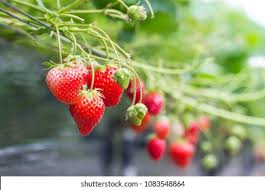ripe: (42, 54, 94, 106), (66, 82, 107, 138), (91, 62, 123, 108), (166, 135, 193, 167), (126, 75, 143, 104), (146, 135, 164, 162), (153, 116, 174, 137), (143, 89, 161, 113)
unripe: (127, 105, 146, 133), (113, 66, 128, 91), (200, 153, 218, 169), (133, 100, 147, 119)
